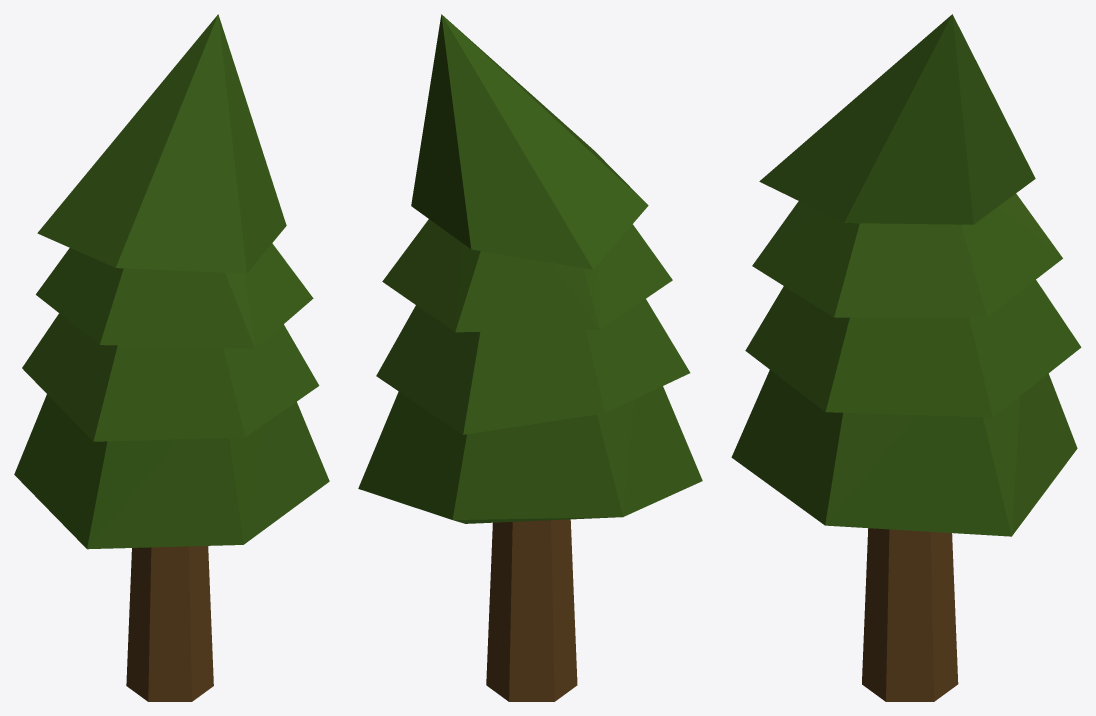
File: SM_Tree_03.fbx
3 renders of one model, left to right at view 1: azimuth 30°, elevation 25°; view 2: azimuth 150°, elevation 25°; view 3: azimuth 270°, elevation 25°, orthographic. The views are drawn at different scales.
Visible parts, largest first — view 1: Tree_03; view 2: Tree_03; view 3: Tree_03.
Boxes of the visible parts, <box> form: Tree_03: <box>14,14,329,701</box>; Tree_03: <box>358,14,702,701</box>; Tree_03: <box>731,14,1081,701</box>.
Bounding box in the file's own units: 2.73 × 6.84 × 3.07.
